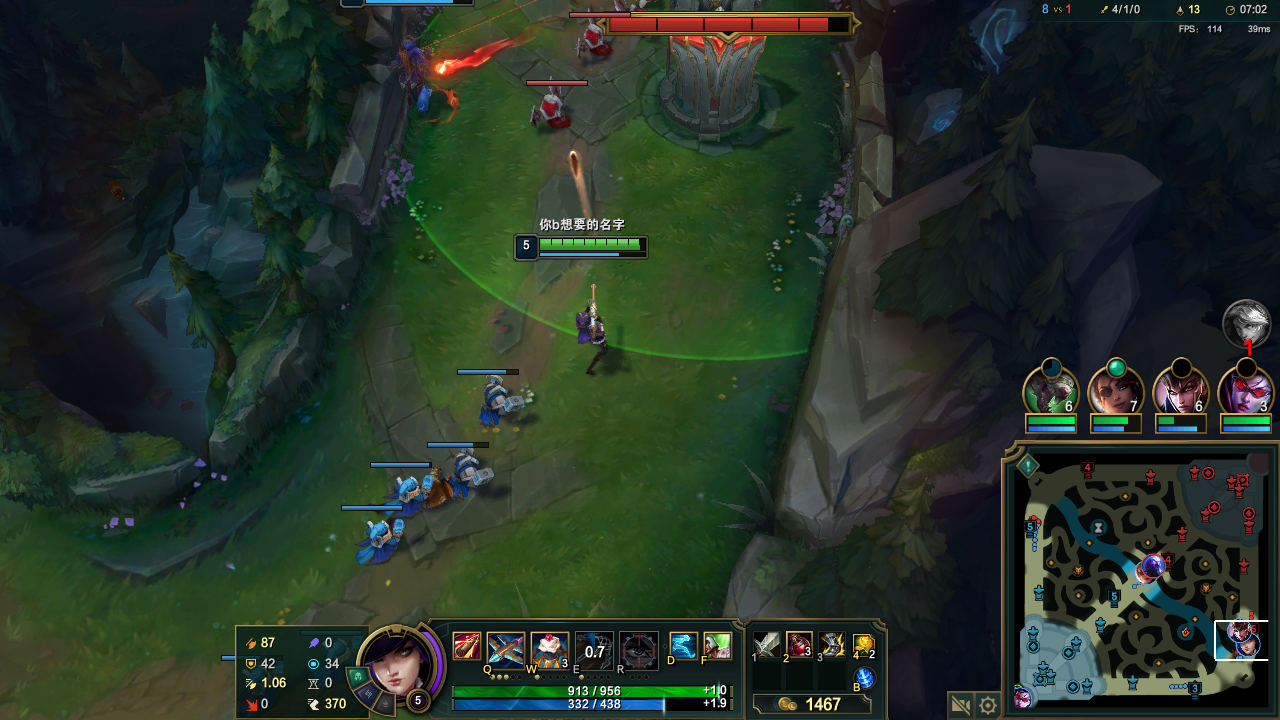DFFYT: (634, 11, 774, 138)
DFXB: (537, 93, 566, 126), (578, 28, 605, 53)
WFXB: (384, 473, 432, 519), (452, 454, 498, 495), (359, 524, 399, 571), (483, 376, 523, 422)
